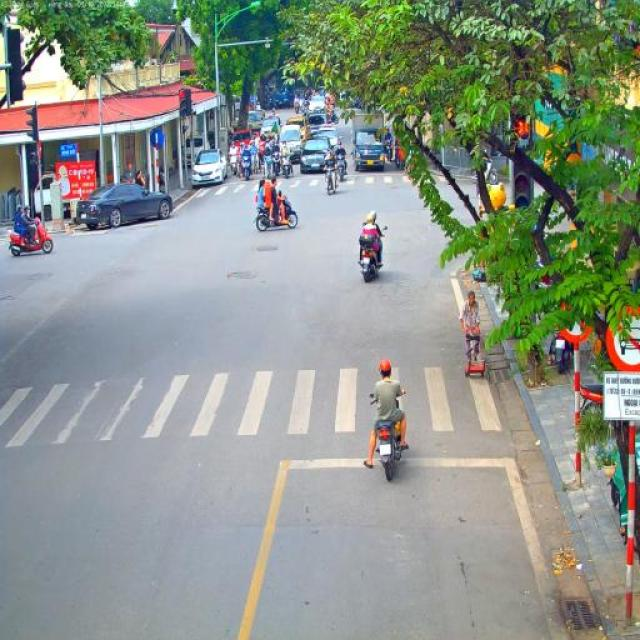car: (76, 180, 173, 230), (192, 148, 228, 186), (300, 136, 334, 174), (303, 128, 339, 152), (280, 124, 304, 158), (284, 118, 310, 148), (230, 130, 254, 154), (258, 118, 281, 142), (306, 123, 338, 135)
motorcycle: (370, 391, 406, 481), (357, 222, 388, 282), (8, 217, 54, 257), (253, 193, 299, 233), (553, 316, 572, 374), (471, 160, 499, 185), (278, 147, 294, 179), (323, 164, 338, 195), (580, 381, 604, 398), (269, 150, 282, 180), (336, 152, 348, 182), (241, 156, 254, 180), (381, 139, 392, 163), (228, 156, 240, 177), (264, 155, 274, 179), (234, 152, 244, 176), (260, 138, 270, 162), (251, 148, 260, 173), (330, 107, 340, 124), (392, 148, 398, 164), (302, 106, 308, 120), (294, 101, 300, 114)
truck: (350, 108, 386, 172), (269, 84, 295, 110), (308, 96, 328, 126), (246, 109, 264, 136)
